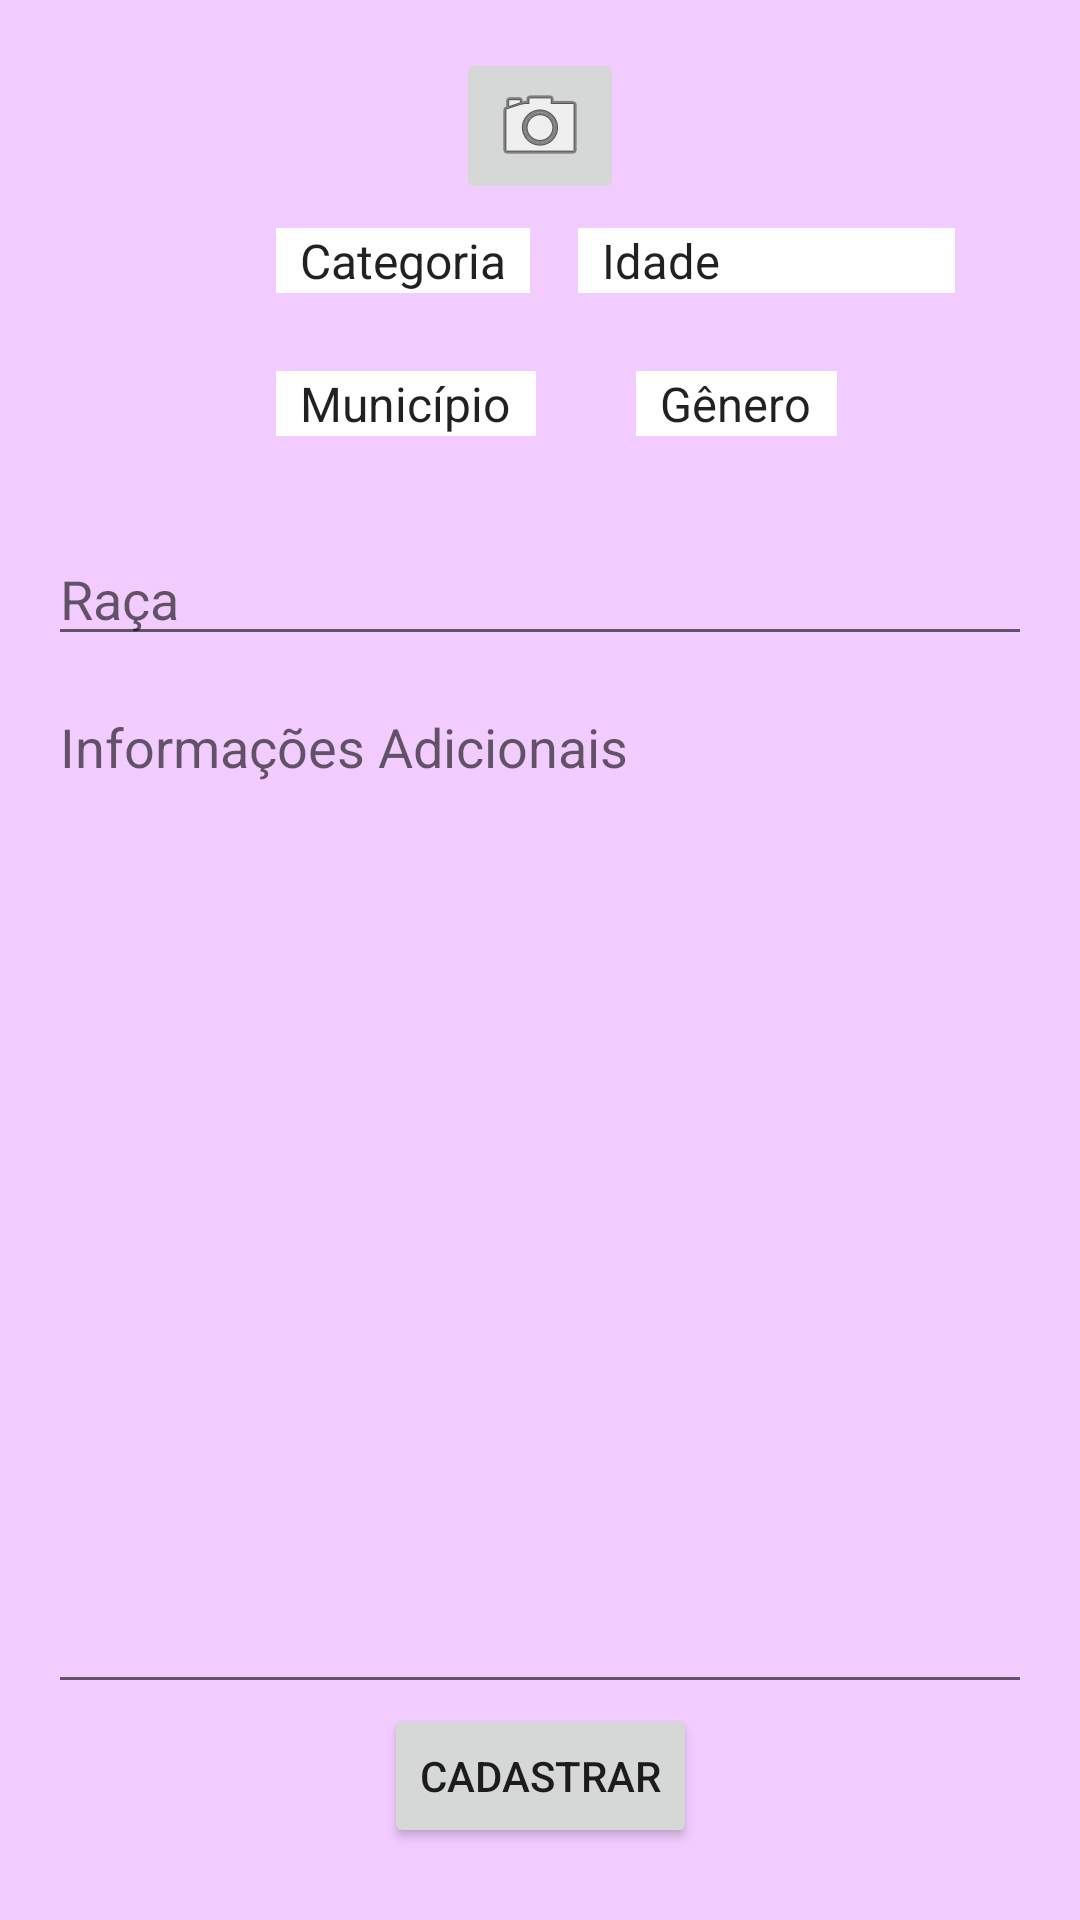

Screen size 1080px×1920px. Icon name, then its center in pixels as [x,y]:
camera: [540,126]
